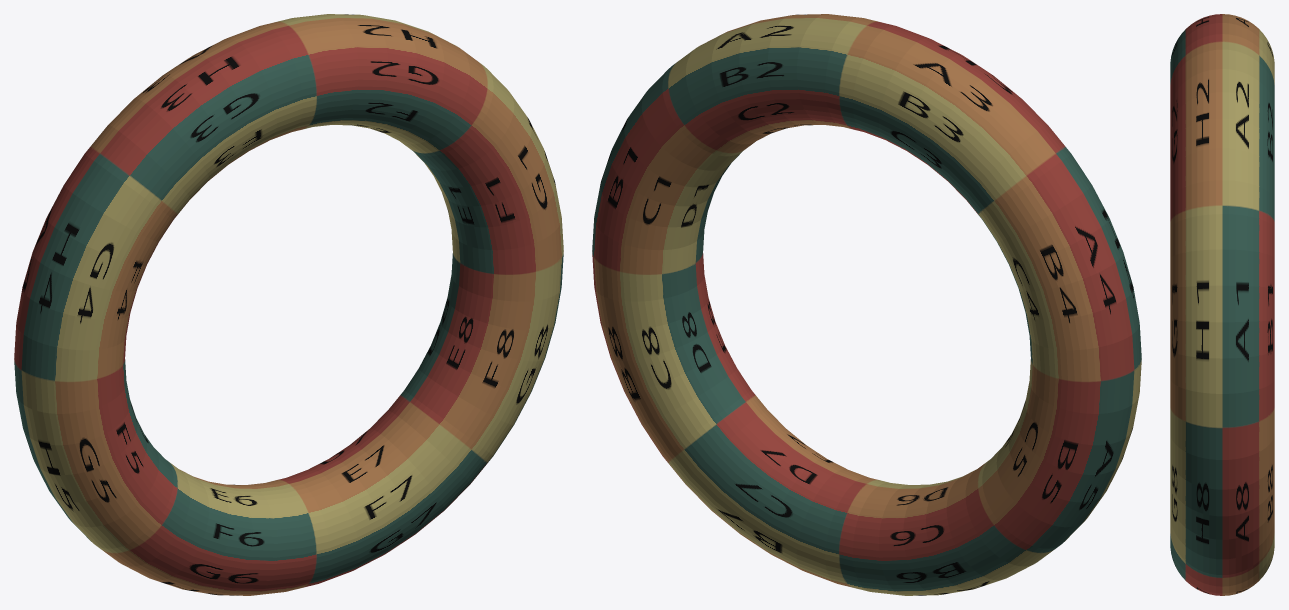
File: texture_torus_R6_r4.glb
3 renders of one model, left to right at view 1: azimuth 30°, elevation 25°; view 2: azimuth 150°, elevation 25°; view 3: azimuth 270°, elevation 25°, orthographic. The views are drawn at different scales.
Visible parts, largest first — view 1: world; view 2: world; view 3: world.
Part boxes in pixels (x1,y1,x2,y2): world: (14,14,563,595); world: (592,14,1141,595); world: (1170,14,1274,595).
Bounding box in the file's own units: 17.07 × 17.03 × 3.06.
Materials: 1 (1 with a texture image).
